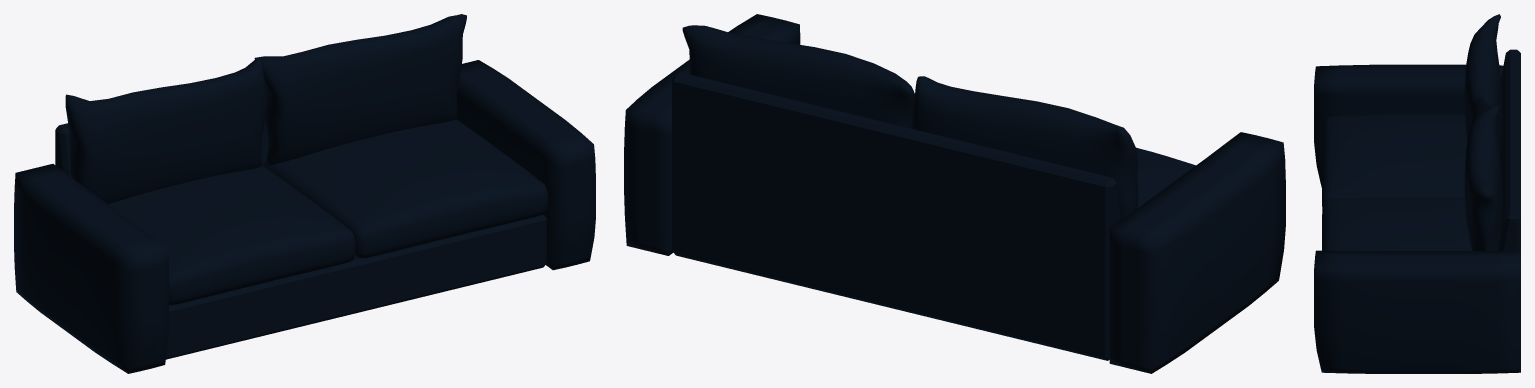
The model's file is Sofa (2).fbx.
3 renders of one model, left to right at view 1: azimuth 30°, elevation 25°; view 2: azimuth 150°, elevation 25°; view 3: azimuth 270°, elevation 25°, orthographic. The views are drawn at different scales.
Parts seen in each view (by area): view 1: Cube; view 2: Cube; view 3: Cube.
Part boxes in pixels (x1,y1,x2,y2): Cube: [14, 14, 595, 373]; Cube: [624, 14, 1285, 373]; Cube: [1314, 14, 1520, 373].
Bounding box in the file's own units: 207 × 81.89 × 87.68.
Materials: 1 (1 with a texture image).
